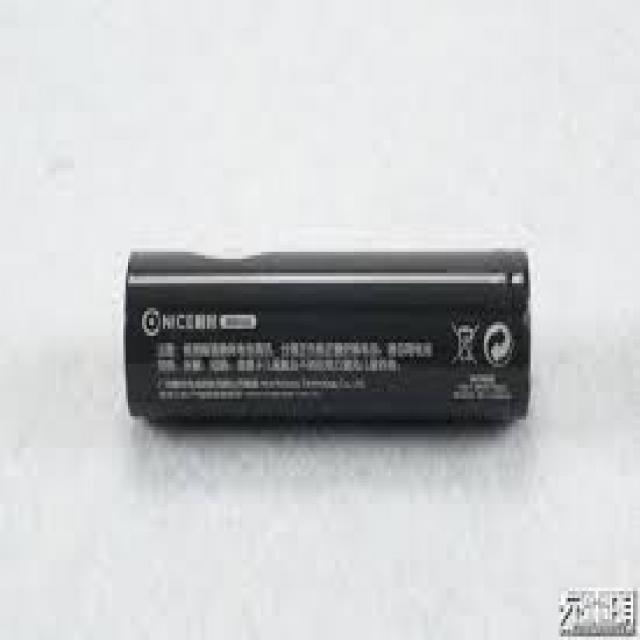battery: (125, 246, 532, 439)
